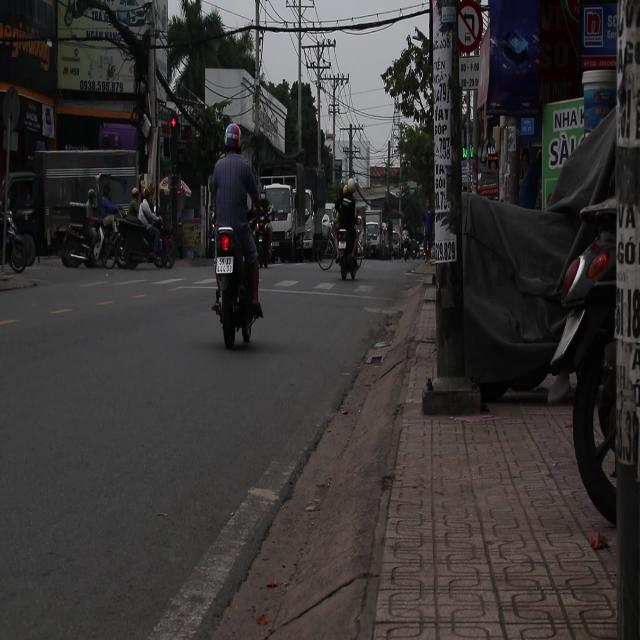motorbike: (212, 223, 265, 350), (106, 202, 174, 270), (57, 192, 117, 268), (336, 214, 359, 286), (252, 217, 274, 270)
truck: (38, 123, 140, 253), (258, 161, 320, 260)
